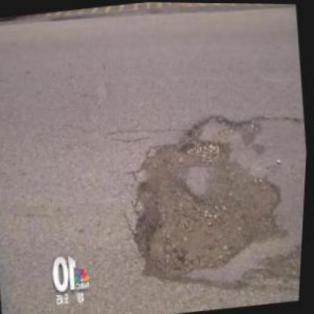Hueco: (122, 106, 300, 282)
